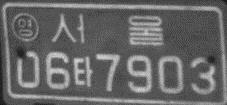0: (156, 55, 184, 95), (16, 50, 40, 88)
3: (189, 56, 216, 95)
6: (44, 51, 70, 90)
7: (95, 52, 120, 91)
9: (125, 54, 152, 93)
서울_D: (50, 12, 165, 47)
영: (10, 12, 38, 42)
타: (72, 56, 93, 88)
